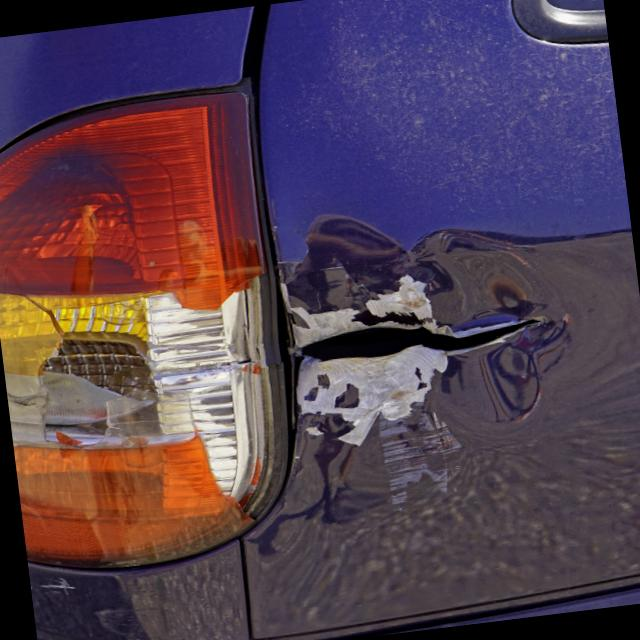Dechirure: (278, 252, 569, 450)
Phare abime: (0, 257, 317, 563)
